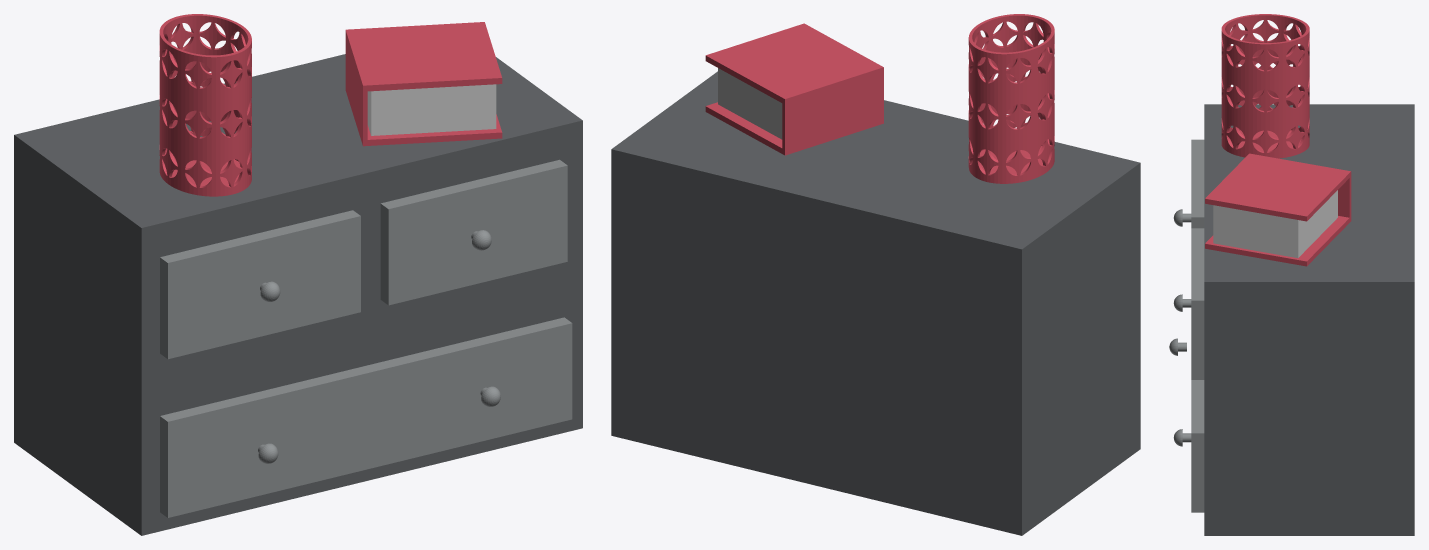
The model's file is PRO-C149 Project.glb.
The picture shows the model from 3 angles, left to right: view 1: azimuth 30°, elevation 25°; view 2: azimuth 150°, elevation 25°; view 3: azimuth 270°, elevation 25°; orthographic projection. The views are drawn at different scales.
Visible parts, largest first — view 1: Mesh_Mesh_head_geo.001_lambert2SG.001; view 2: Mesh_Mesh_head_geo.001_lambert2SG.001; view 3: Mesh_Mesh_head_geo.001_lambert2SG.001.
Boxes of the visible parts, box(x1,y1,x2,y2) form: Mesh_Mesh_head_geo.001_lambert2SG.001: box(14, 14, 582, 535); Mesh_Mesh_head_geo.001_lambert2SG.001: box(611, 14, 1140, 535); Mesh_Mesh_head_geo.001_lambert2SG.001: box(1169, 14, 1414, 535).
Size of the model in its own units: 76.2 by 74 by 44.45.
